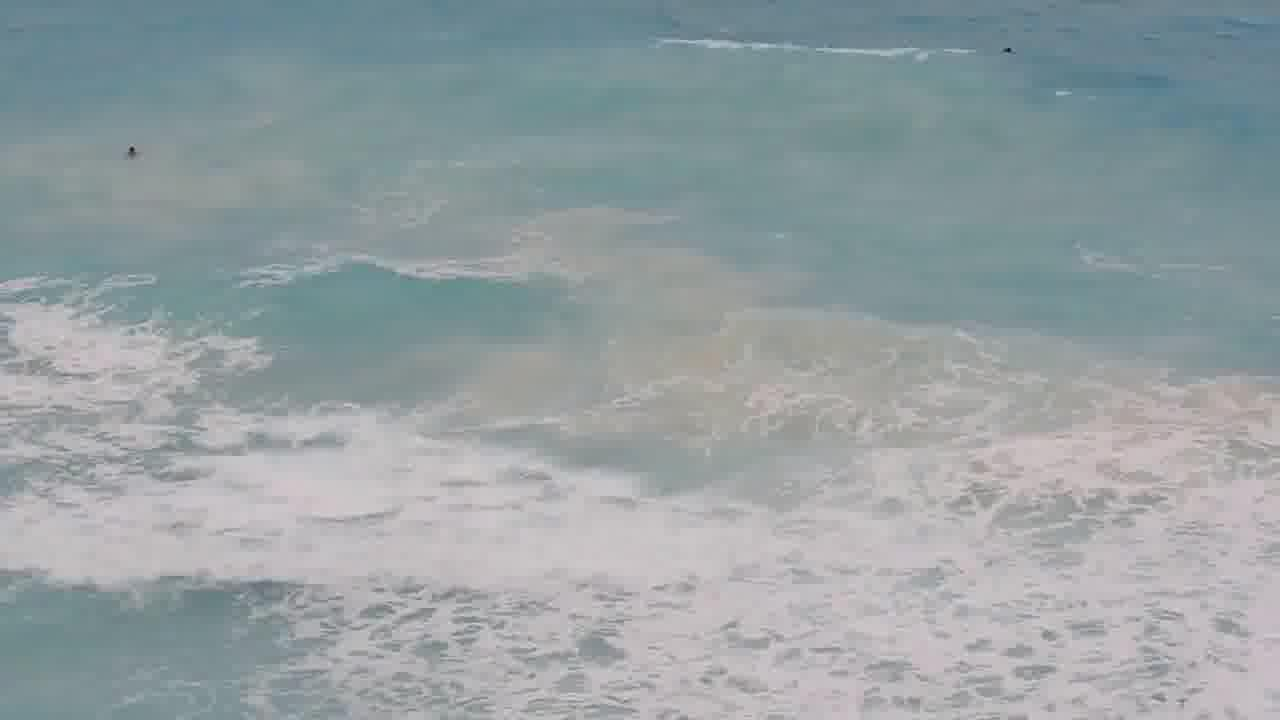swimmer: (112, 139, 149, 168), (994, 40, 1021, 78)
